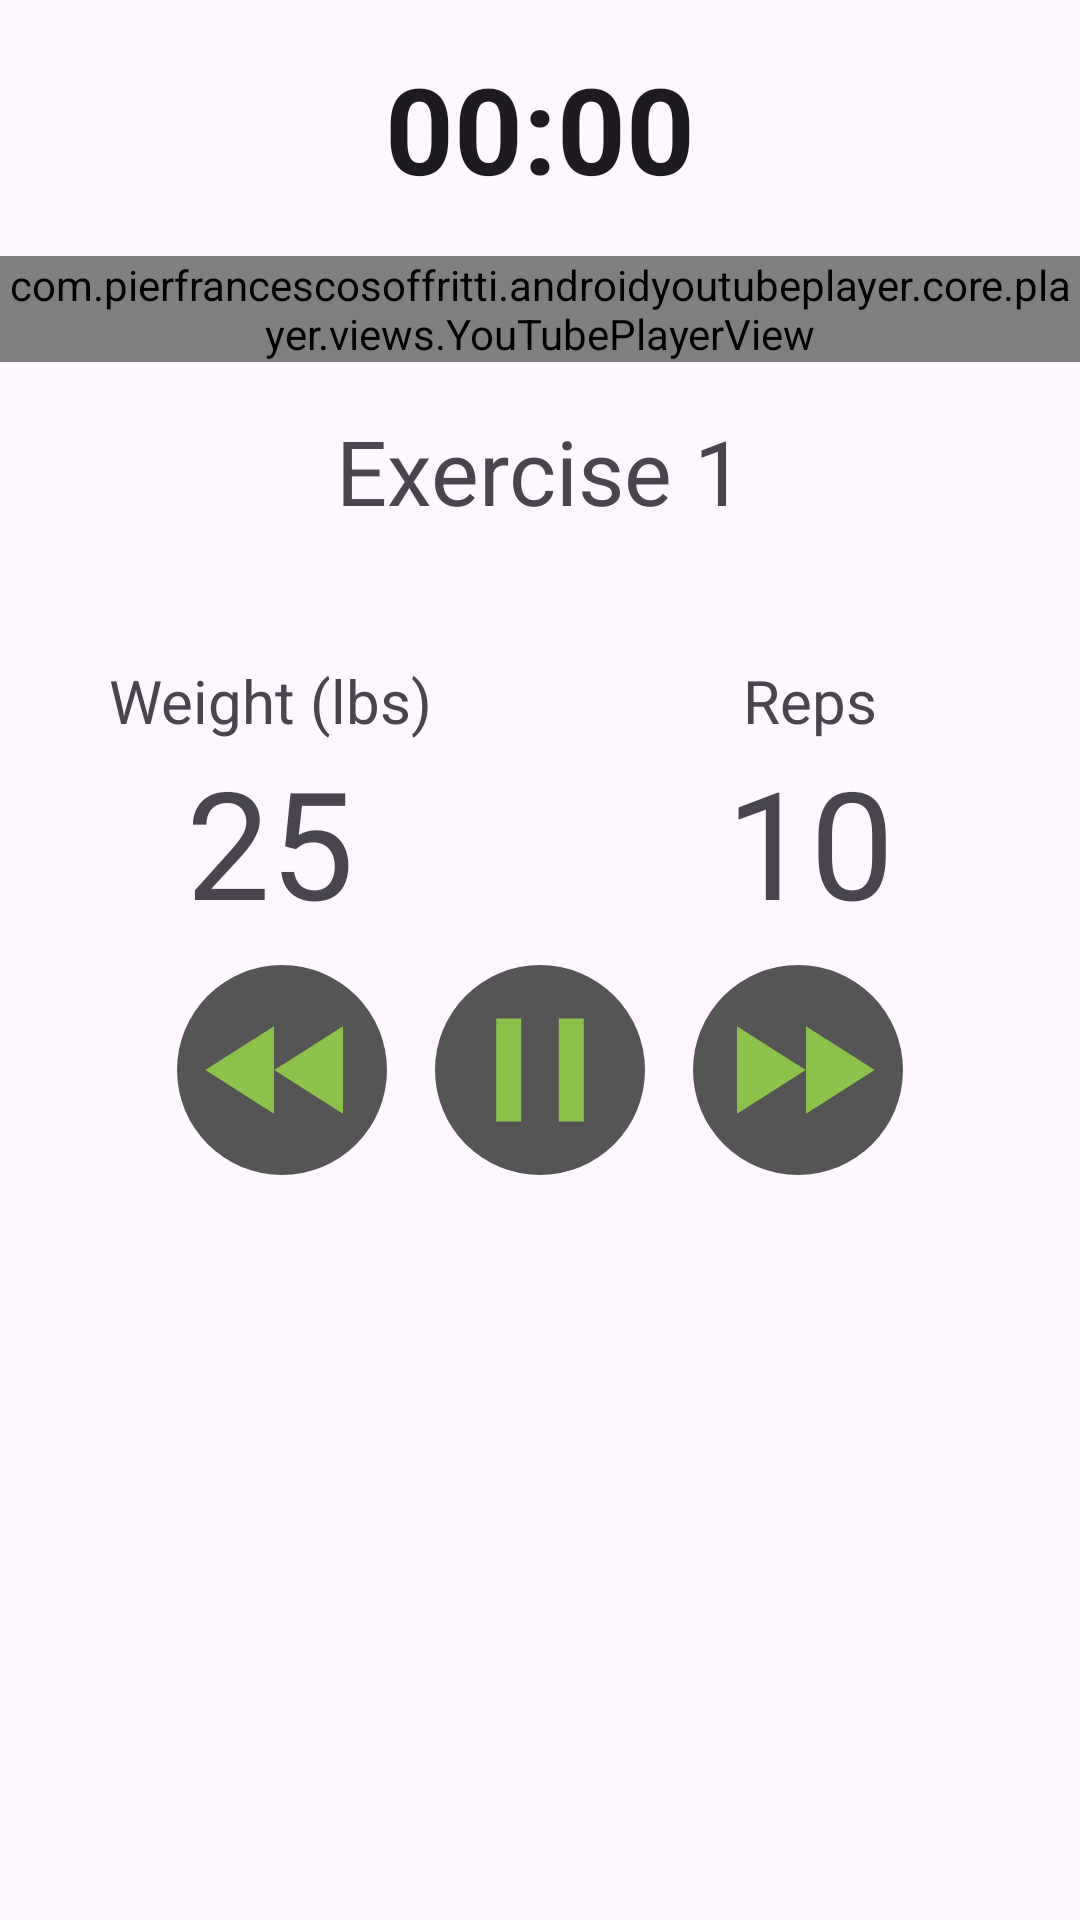

Named icons in this screenshot (1080px x 1920px) and their centers, (x=x, y=y):
pause: (x=540, y=1070)
